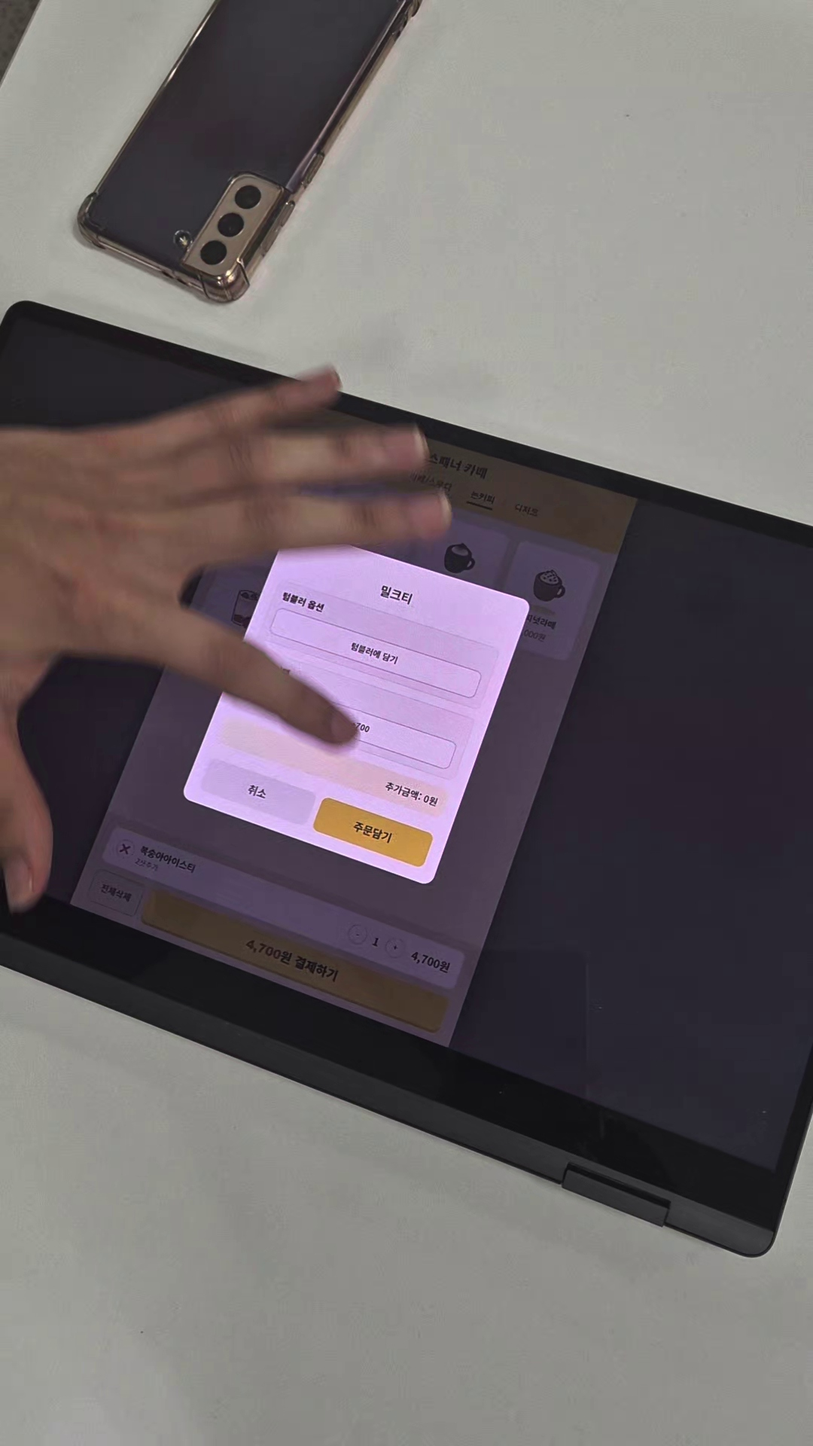action_button: (309, 795, 435, 870), (200, 755, 315, 829)
menu_name: (372, 580, 420, 611)
option_button: (269, 606, 485, 701)
popup_modal: (173, 520, 535, 890)
